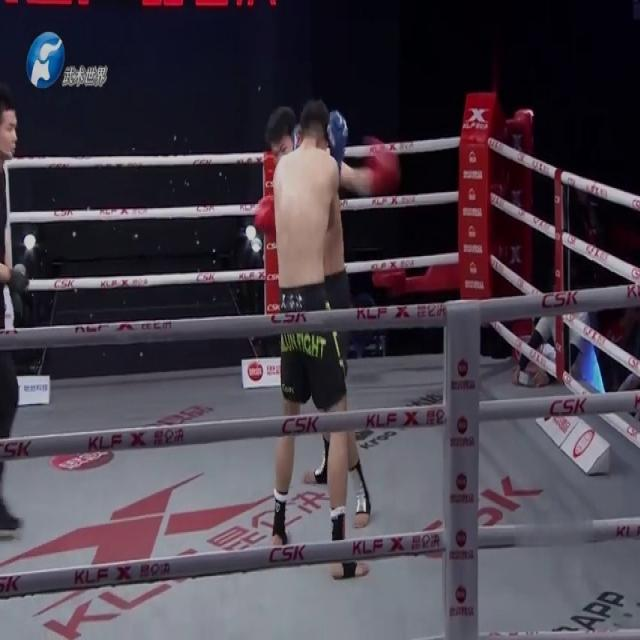fight: (241, 88, 374, 577)
non-fight: (0, 89, 40, 541)
